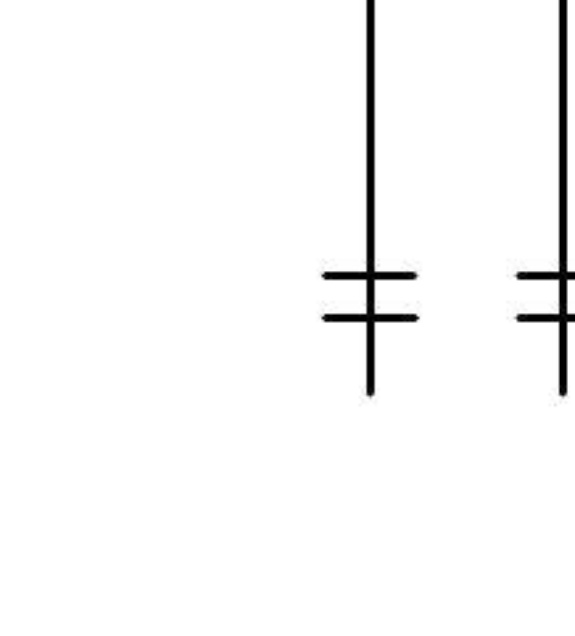115_buffer: (321, 272, 420, 322)
